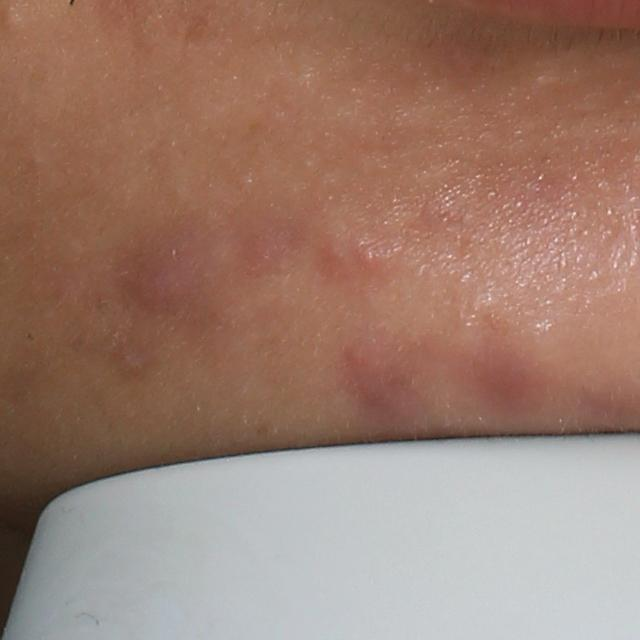papule: (355, 232, 391, 272)
